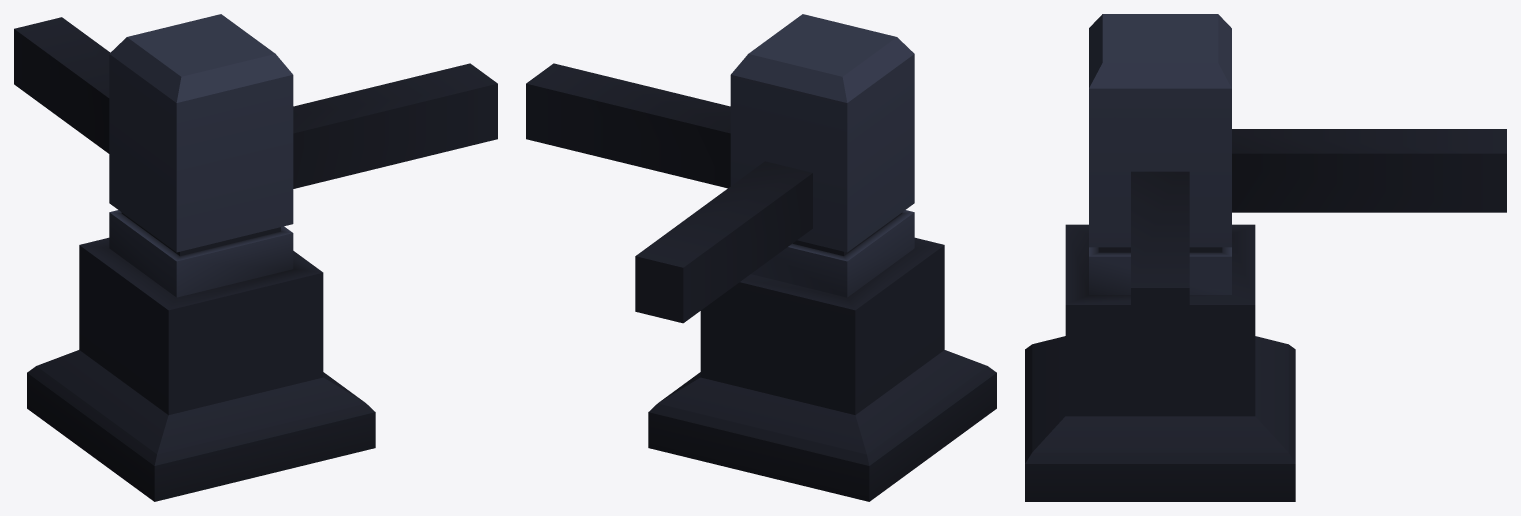
Rendered from pq_muret_angle.glb.
The picture shows the model from 3 angles, left to right: view 1: azimuth 30°, elevation 25°; view 2: azimuth 150°, elevation 25°; view 3: azimuth 270°, elevation 25°; orthographic projection. The views are drawn at different scales.
Parts seen in each view (by area): view 1: Fence_90_Modular; view 2: Fence_90_Modular; view 3: Fence_90_Modular.
Boxes of the visible parts, left/top/right/bottom form: Fence_90_Modular: left=14, top=14, right=497, bottom=501; Fence_90_Modular: left=526, top=14, right=996, bottom=501; Fence_90_Modular: left=1025, top=14, right=1506, bottom=501.
Size of the model in its own units: 1.39 by 1.29 by 1.39.
